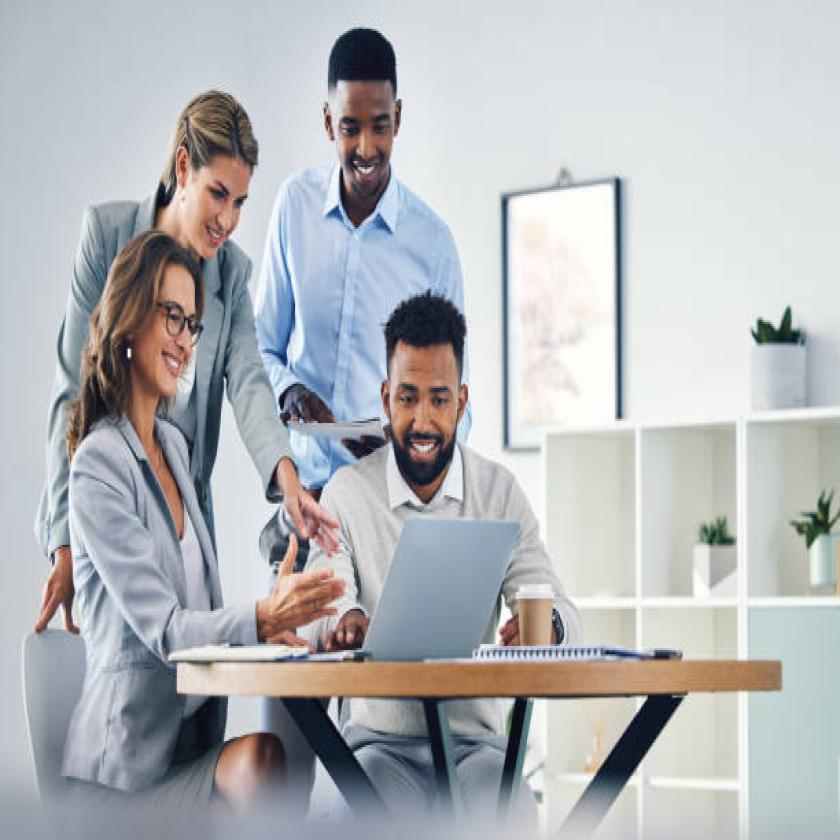Sin_casco: (88, 218, 222, 435), (374, 284, 482, 483), (318, 16, 415, 220), (158, 87, 264, 262)
